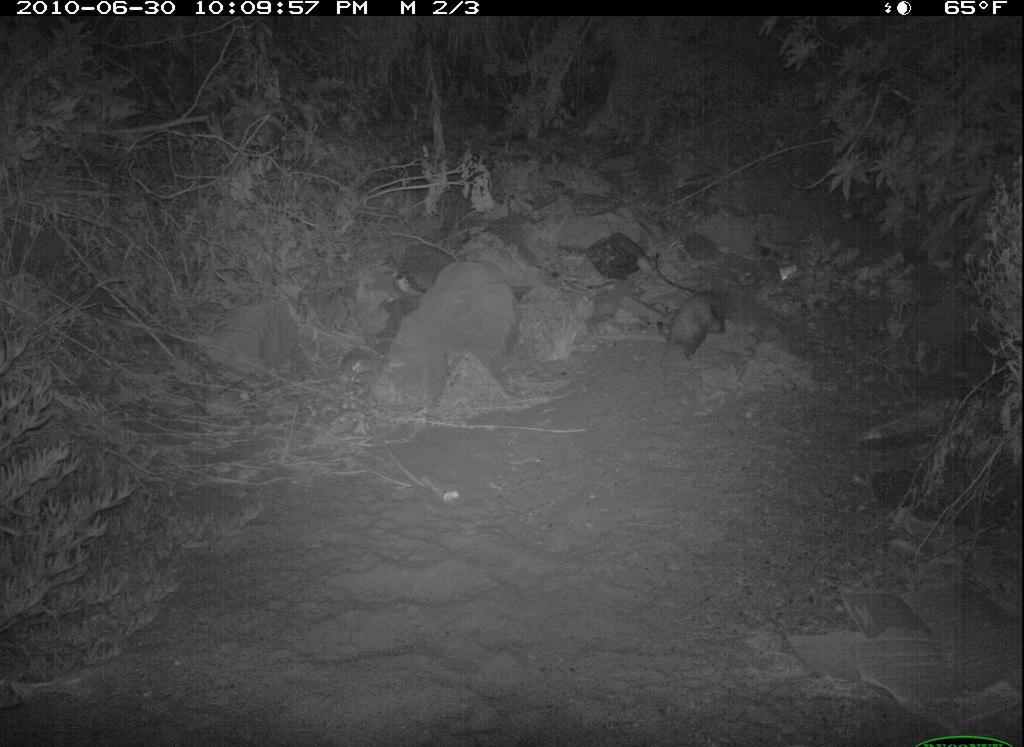opossum: (654, 287, 734, 372)
